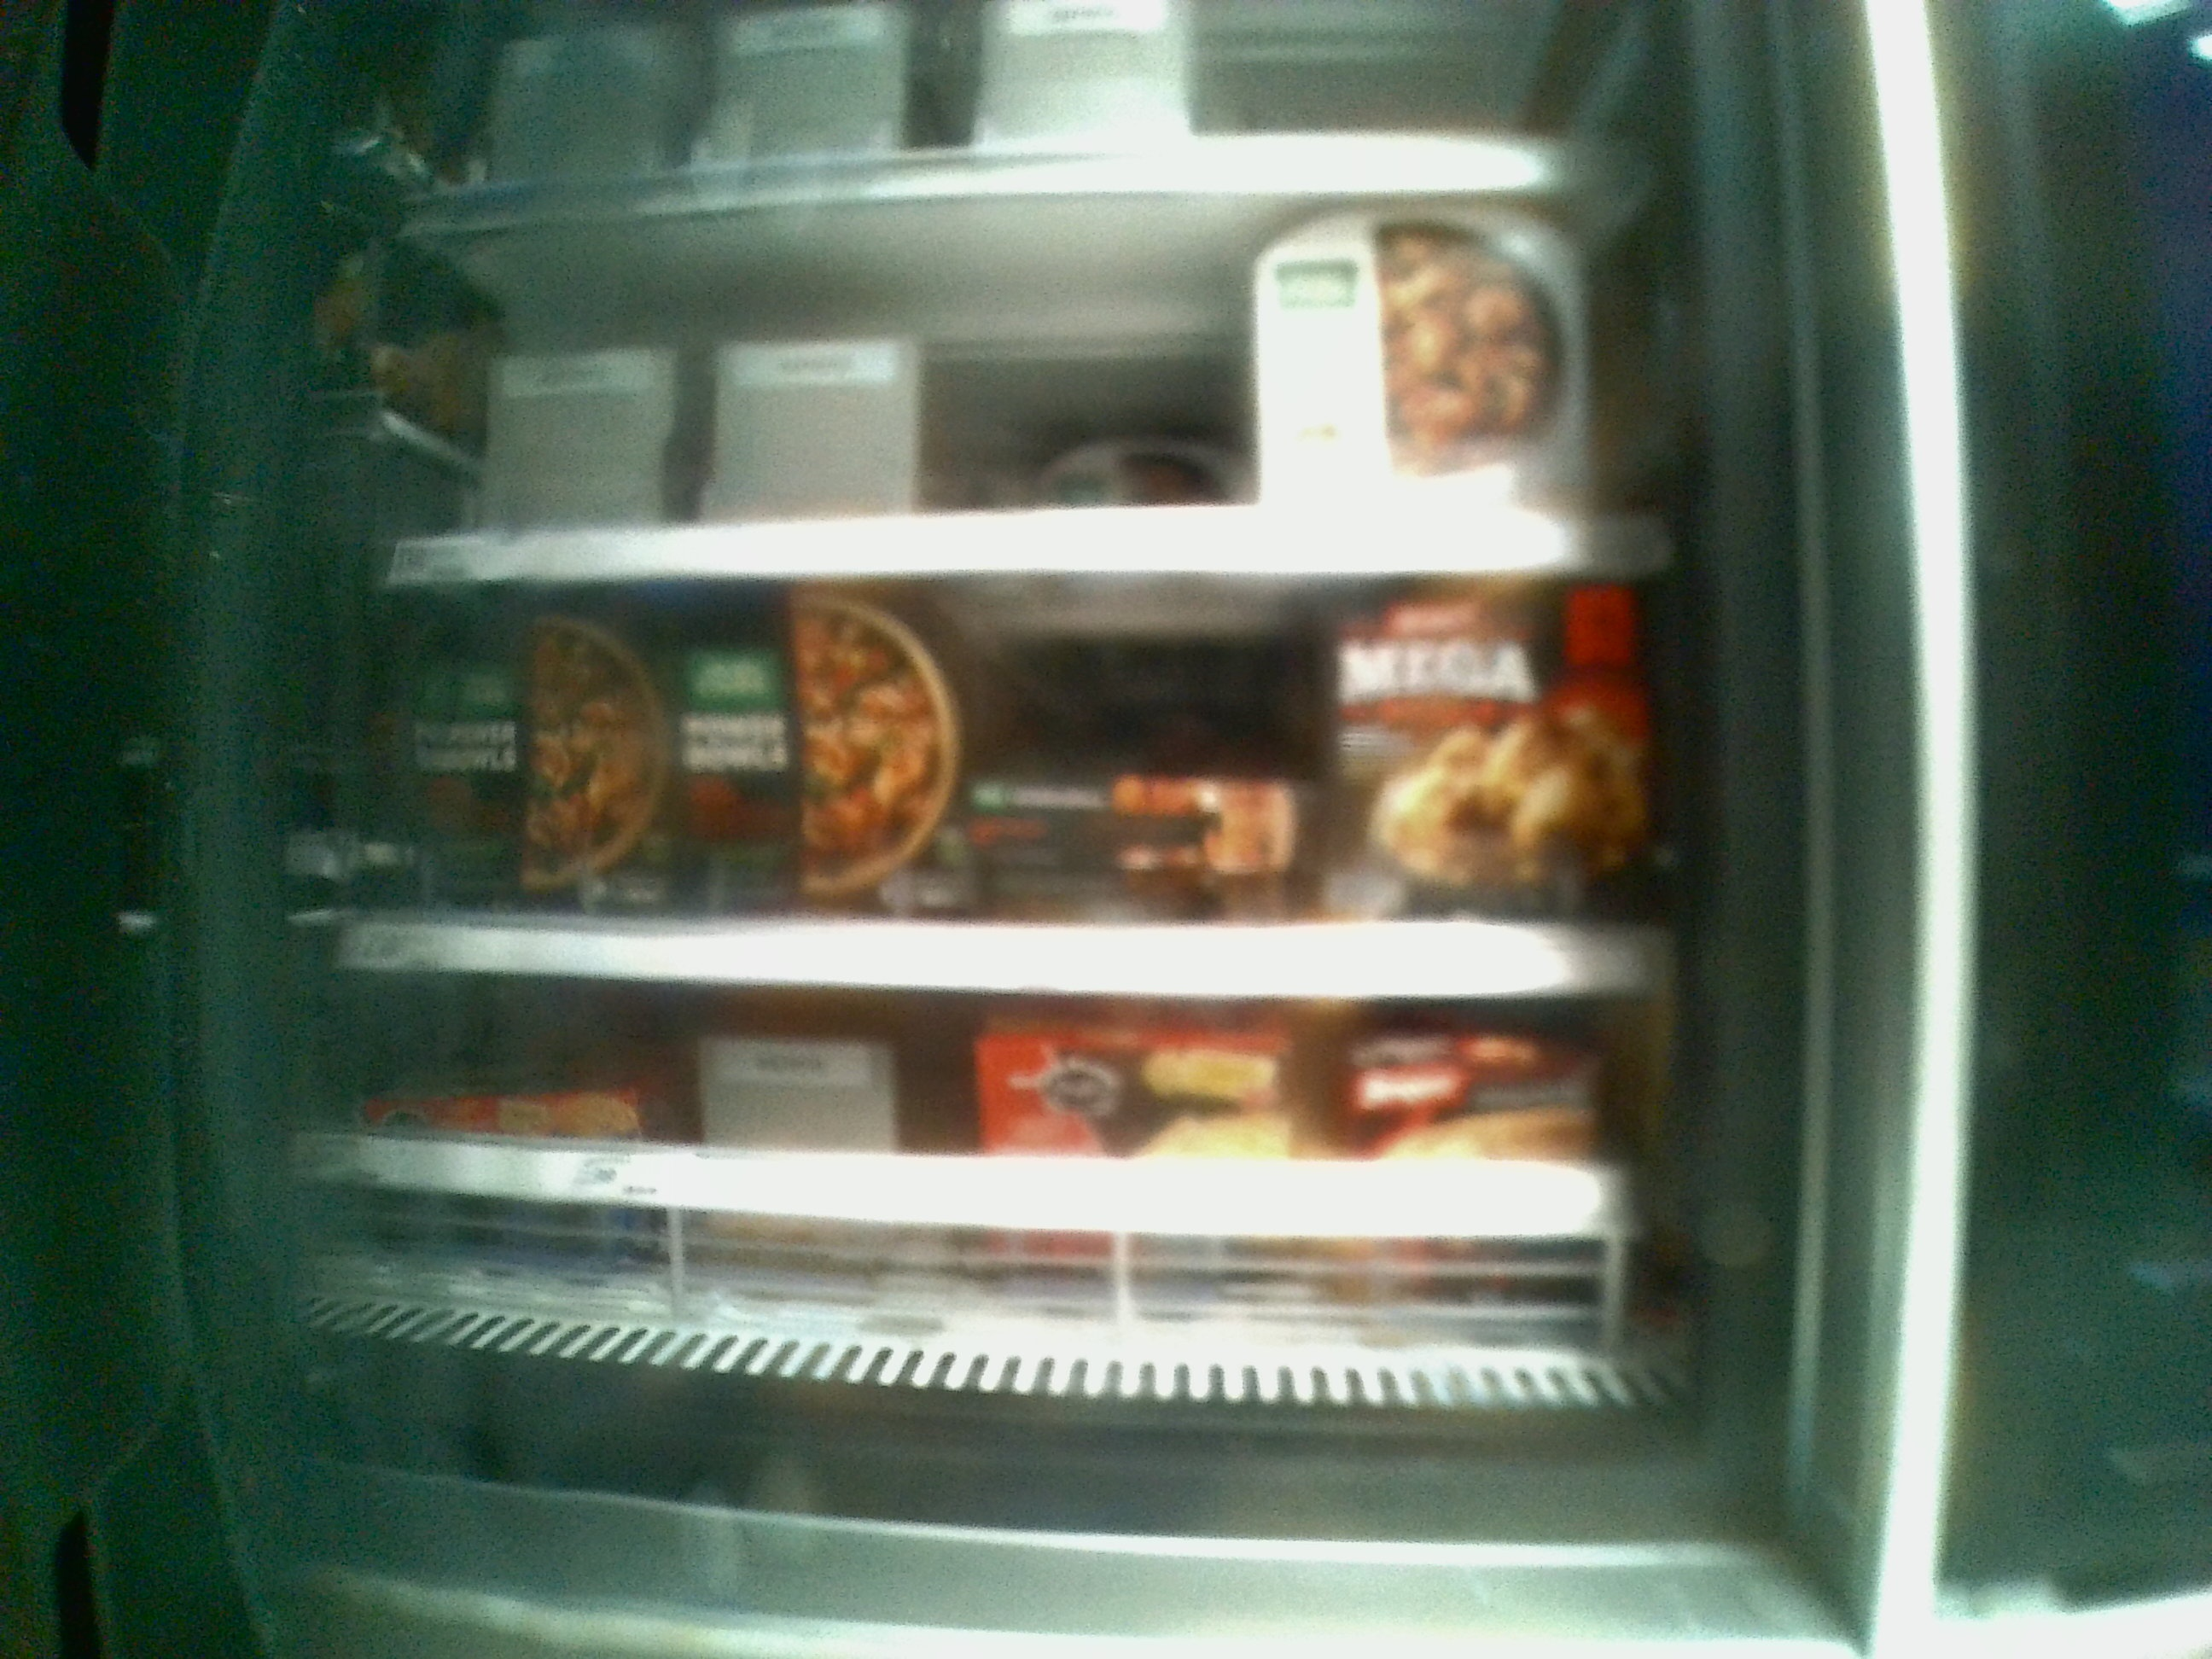Shelf: (359, 573, 1669, 997), (366, 171, 1667, 573), (334, 972, 1672, 1361)
